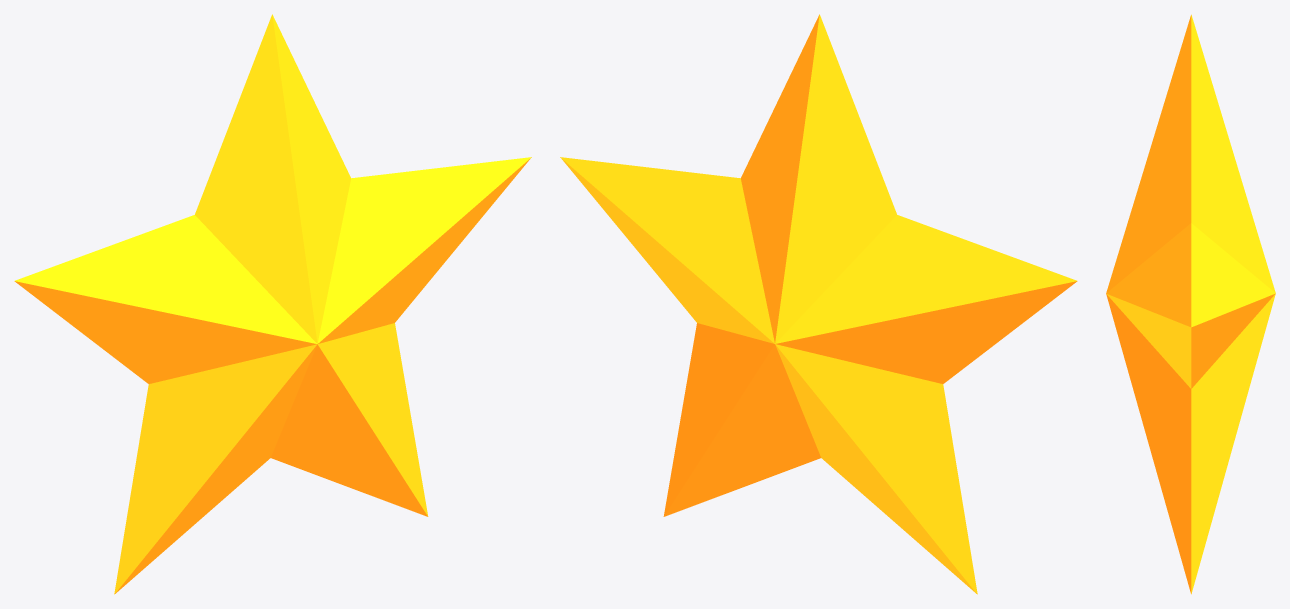
The model's file is Star.fbx.
3 views of the same model, side by side, from view 1: azimuth 30°, elevation 25°; view 2: azimuth 150°, elevation 25°; view 3: azimuth 270°, elevation 25° (orthographic). The views are drawn at different scales.
Visible parts, largest first — view 1: Star; view 2: Star; view 3: Star.
Part boxes in pixels (x1=…): Star: x1=14, y1=14, x2=531, y2=594; Star: x1=560, y1=14, x2=1077, y2=594; Star: x1=1106, y1=14, x2=1275, y2=594.
Size of the model in its own units: 1 by 1 by 0.3023.
